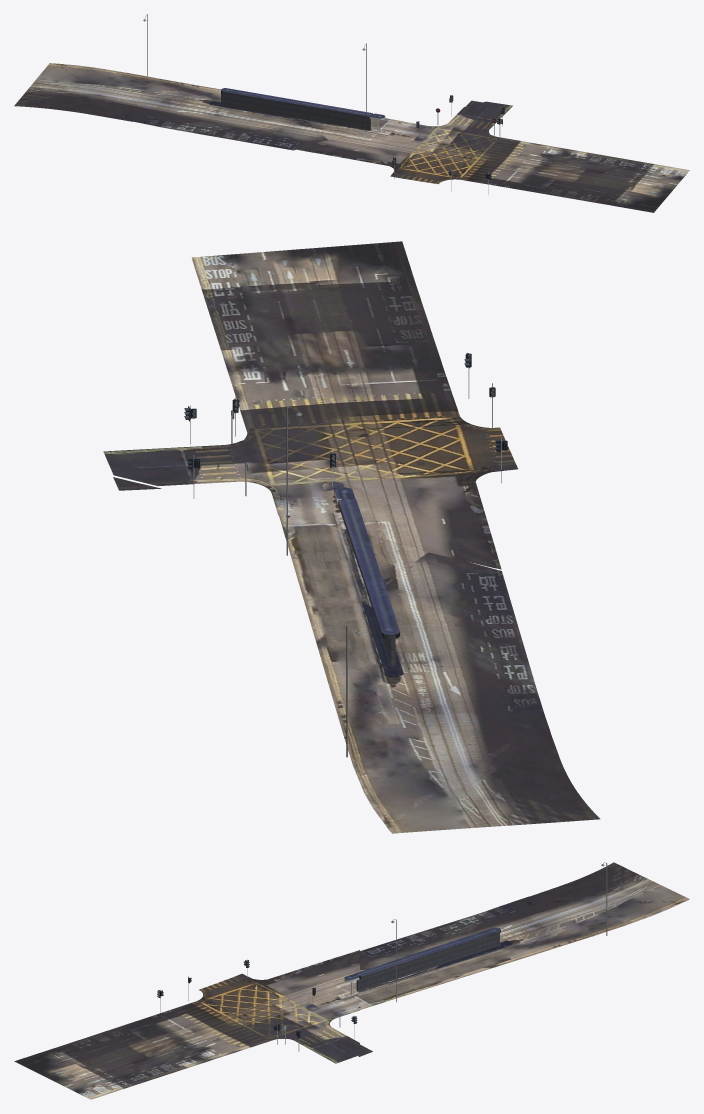
File: jubilee-street.glb
The picture shows the model from 3 angles, top to bottom: view 1: azimuth 30°, elevation 25°; view 2: azimuth 150°, elevation 25°; view 3: azimuth 270°, elevation 25°; orthographic projection. The views are drawn at different scales.
Visible parts, largest first — view 1: jubilee-street; view 2: jubilee-street; view 3: jubilee-street.
Boxes of the visible parts, bbox=[...] form: jubilee-street: bbox=[14, 14, 689, 212]; jubilee-street: bbox=[103, 241, 600, 833]; jubilee-street: bbox=[14, 862, 689, 1099].
Size of the model in its own units: 81.25 by 13.69 by 97.35.
14 materials, 14 textured.
